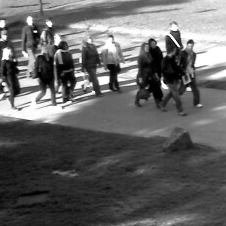person: (159, 44, 188, 117), (180, 38, 205, 106), (32, 45, 58, 108), (81, 34, 103, 100), (55, 40, 76, 109), (135, 41, 156, 109), (20, 15, 42, 78), (2, 46, 22, 112), (102, 34, 124, 93), (149, 38, 165, 109), (1, 31, 13, 93), (164, 19, 185, 52), (41, 17, 62, 50), (43, 27, 59, 57), (1, 17, 10, 50)
